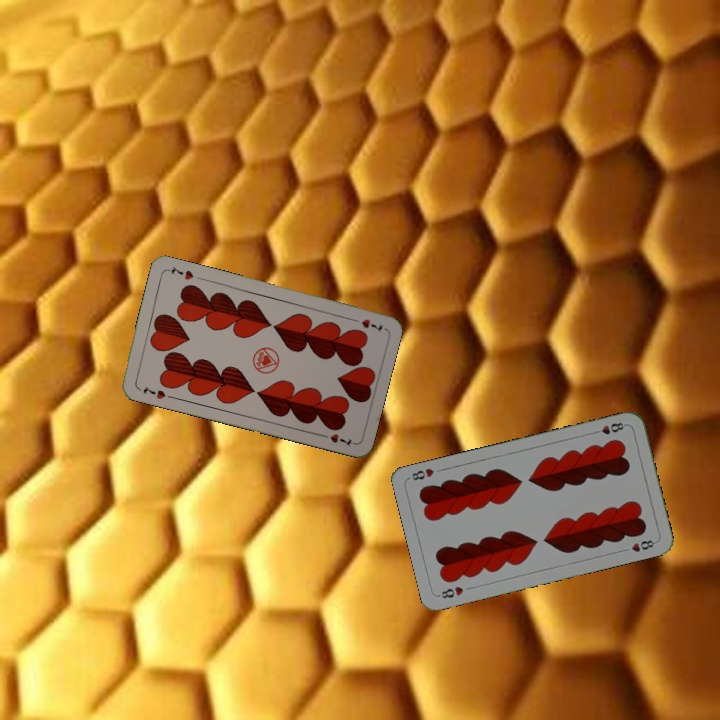H7: (347, 314, 385, 334), (139, 382, 168, 402)
H8: (589, 418, 629, 437), (435, 582, 466, 601)
